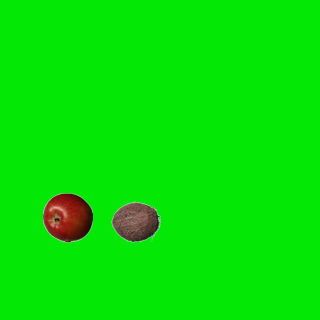Apple Braeburn: (42, 192, 92, 242)
Cocos: (110, 196, 160, 246)
